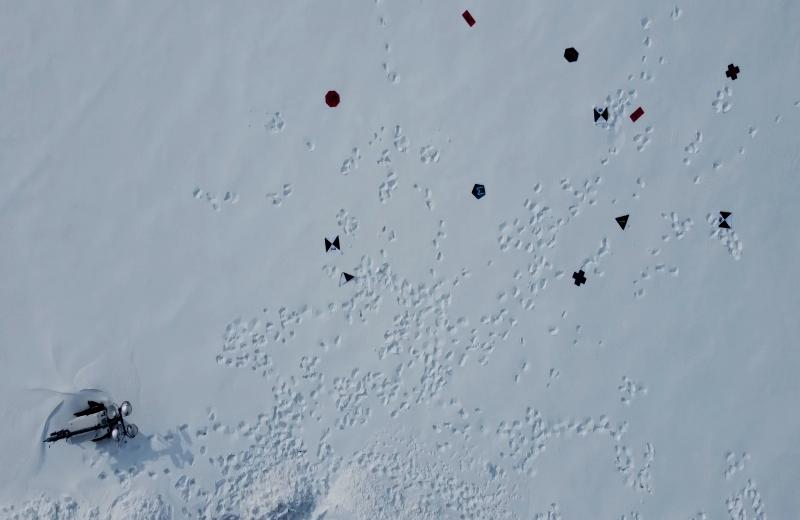Cross: (571, 268, 589, 287), (724, 62, 740, 79)
Hexagon: (564, 47, 579, 65)
Octagon: (324, 88, 341, 108)
Pentagon: (471, 182, 486, 201)
Rectangle: (461, 9, 478, 30), (628, 104, 645, 124)
Triangle: (615, 214, 632, 230)
